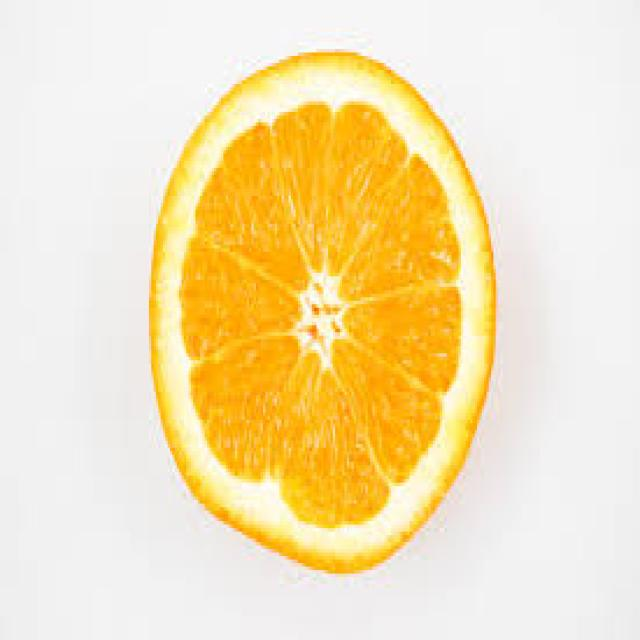orange: (148, 41, 505, 568)
